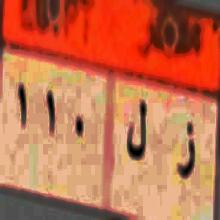0: (73, 113, 85, 146)
1: (16, 71, 28, 137), (46, 85, 56, 144)
laam: (124, 92, 150, 168)
zay: (176, 118, 198, 188)
